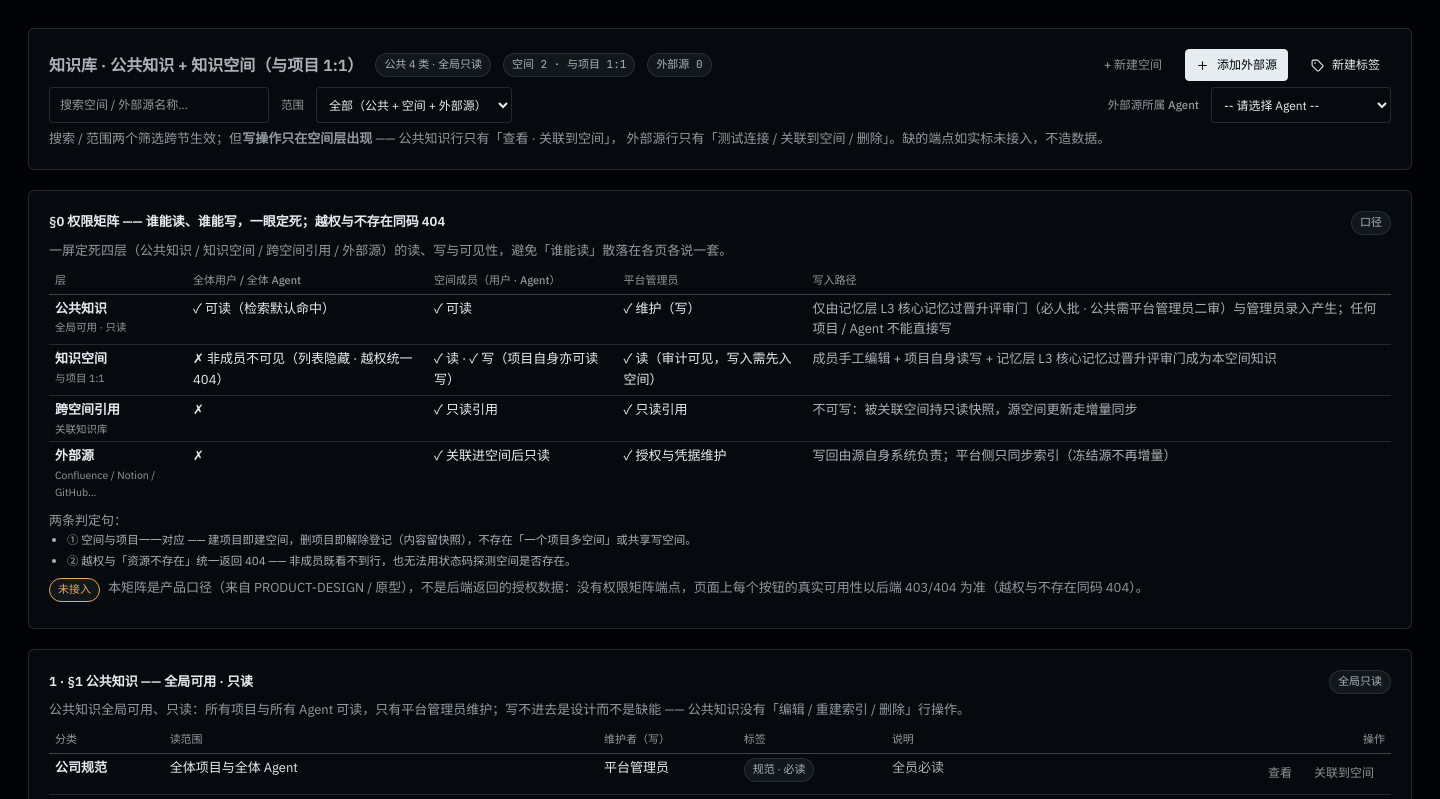
Test: §3 外部源：关联进空间后只读 · 凭据只写不读 · 关联空间未接入 › 创建外部源失败 → detail 原样显示在弹层里
Select "审查 Agent" in the dropdown labelled "外部源所属 Agent" at (1301,105), box [1211,87,1391,123]
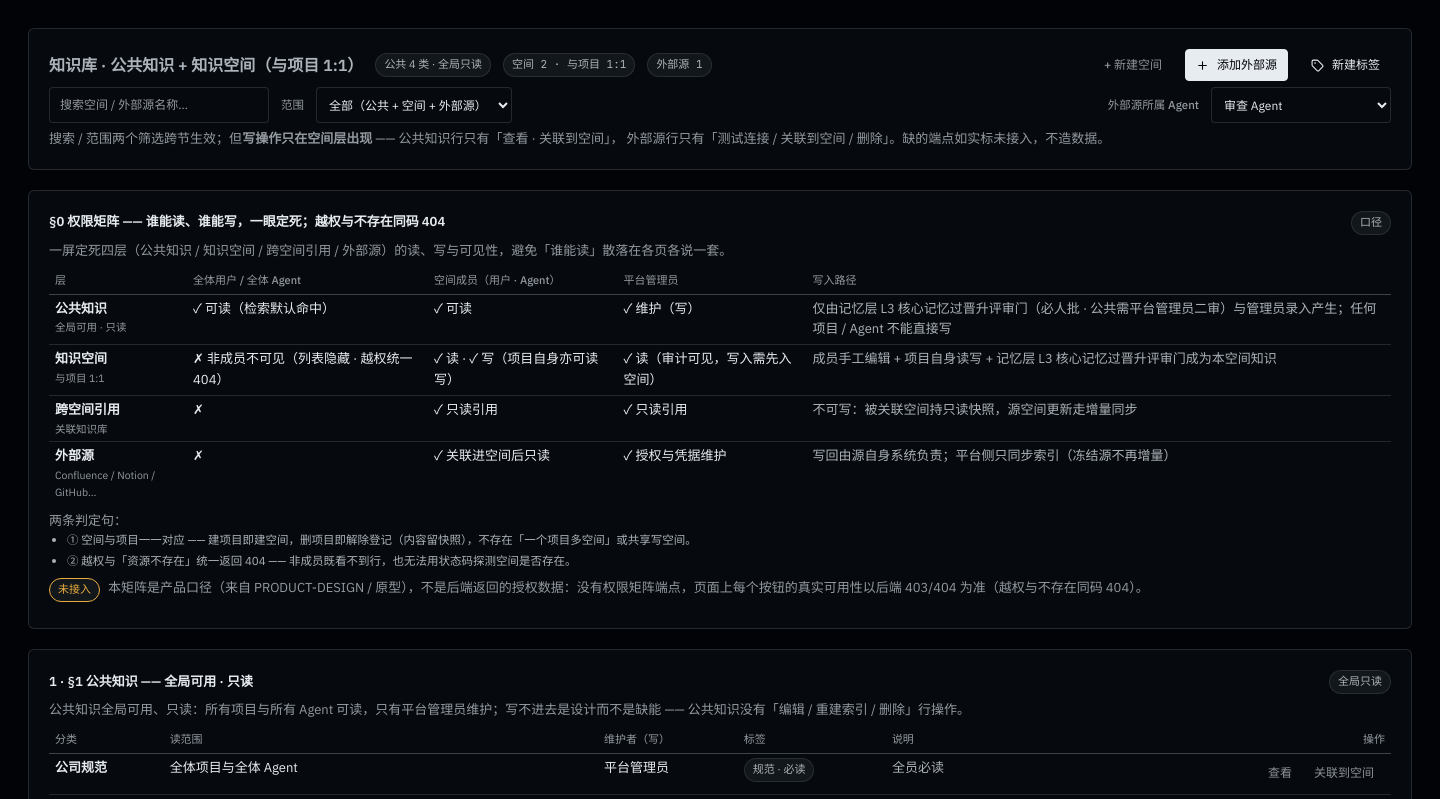
Click the button "添加外部源" at (1236,65), box [1185,49,1288,81]
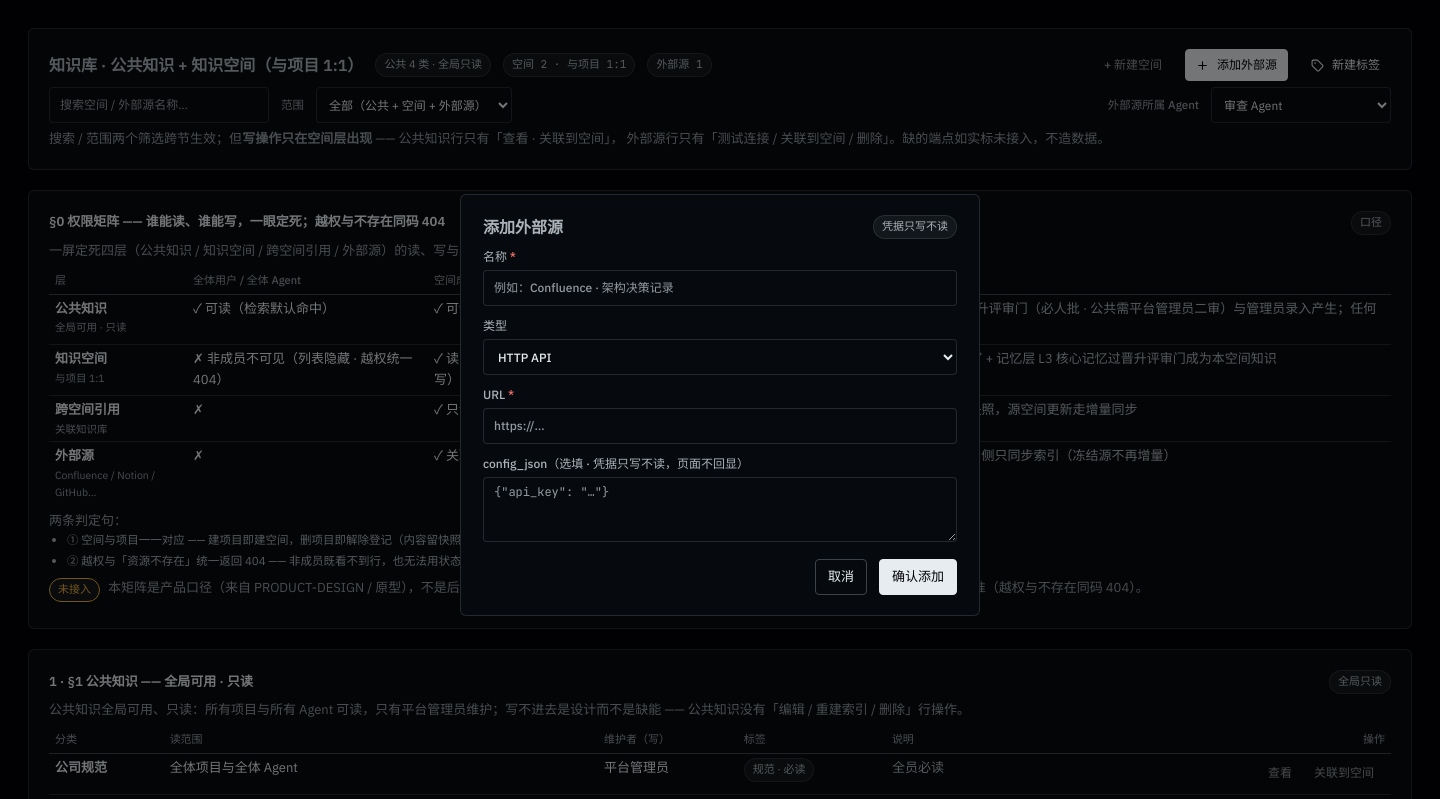
Type "内部 FTP" into the field named "外部源名称" at (720,288), box [483,270,957,306]
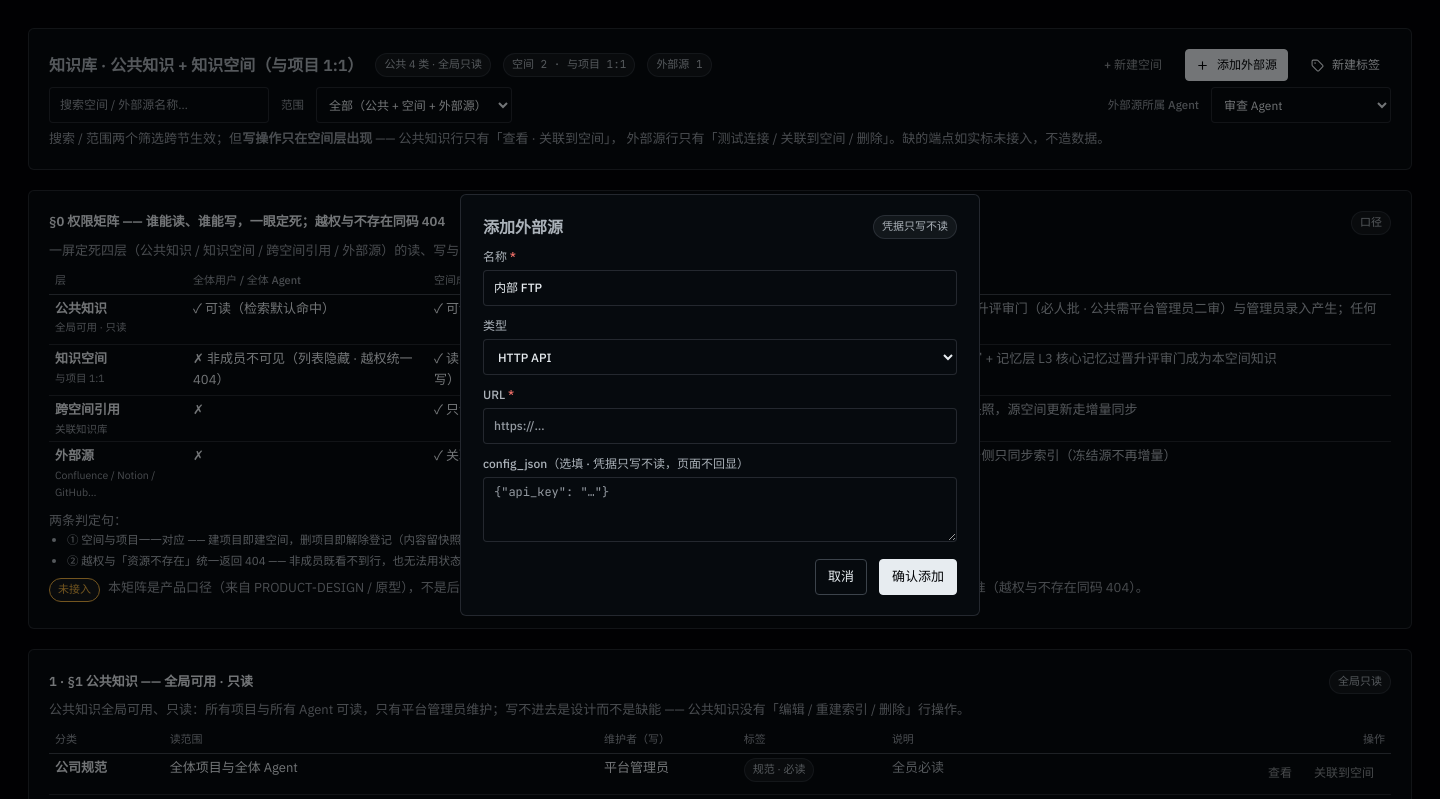
Type "ftp://x/y" into the field named "外部源 URL" at (720,426), box [483,408,957,444]
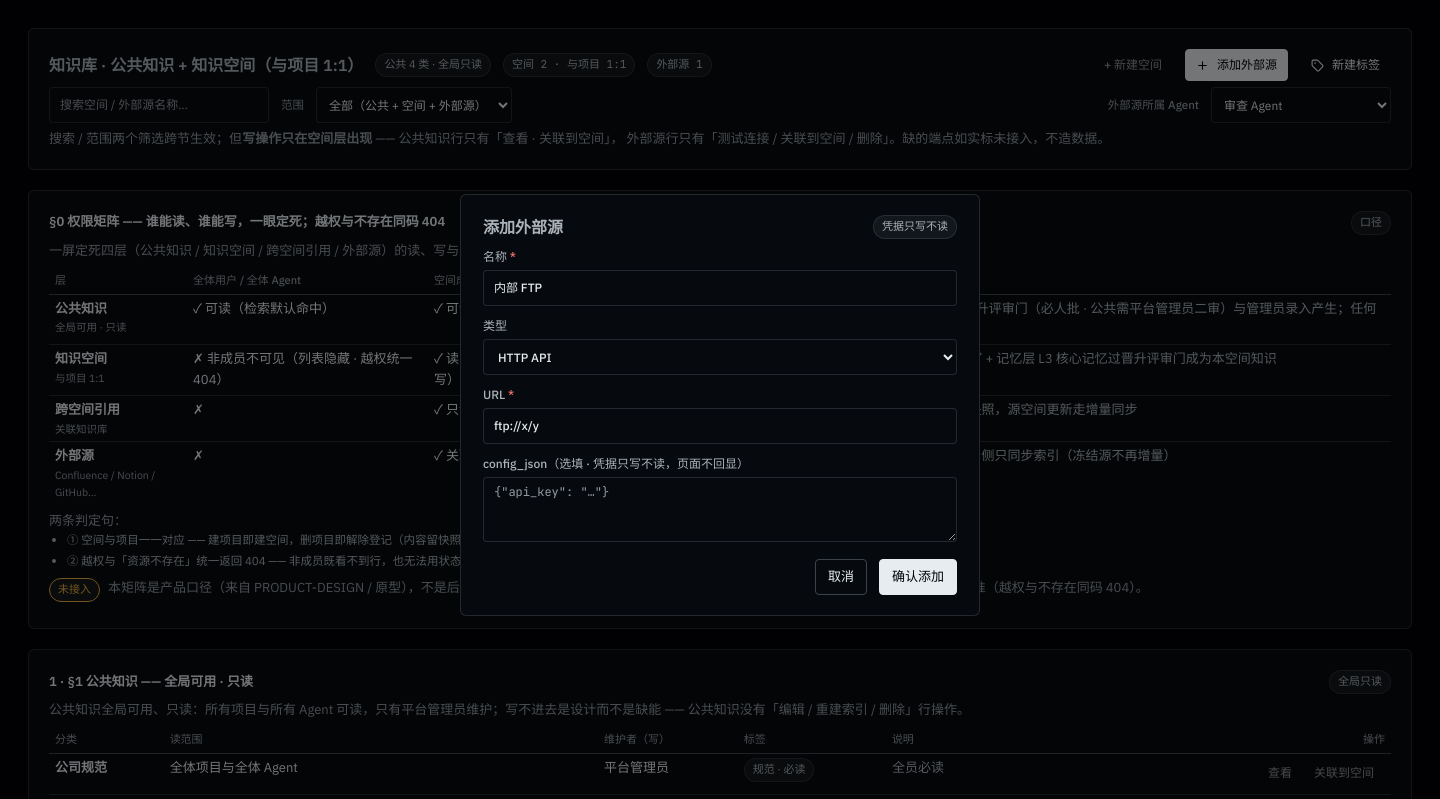
Click the button "确认添加" at (918,577), box [879,559,957,595]
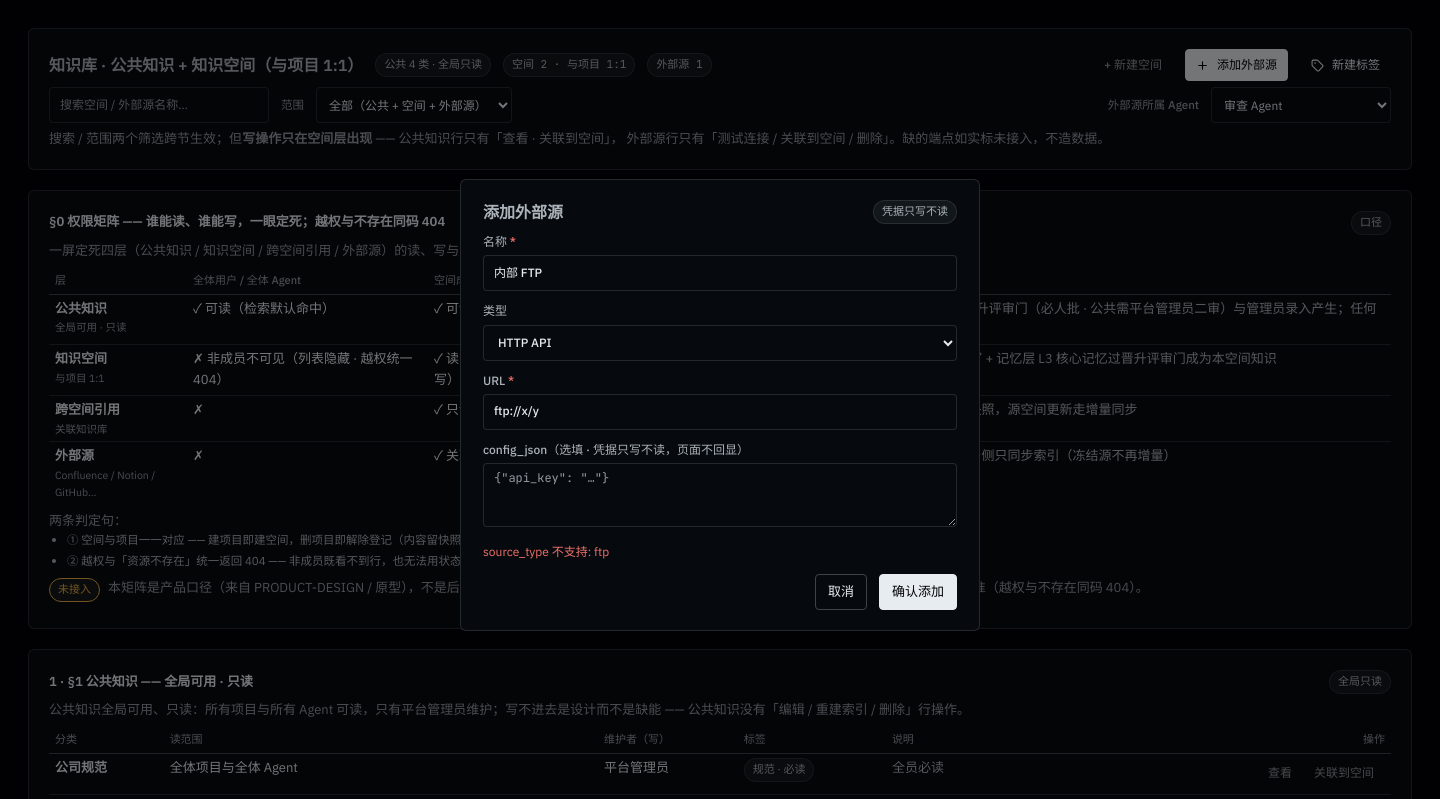
Check: the text "source_type 不支持: ftp" is shown, box [483,544,609,560]
